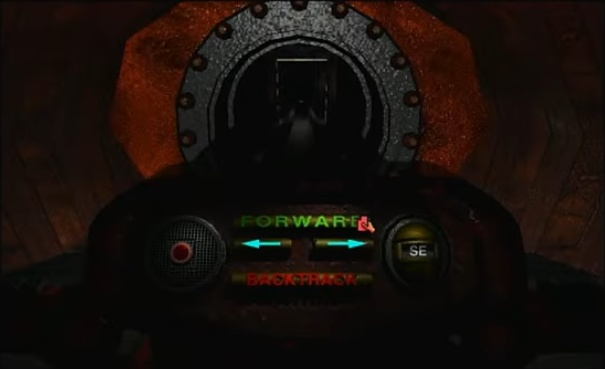Keep: (355, 212, 379, 235)
